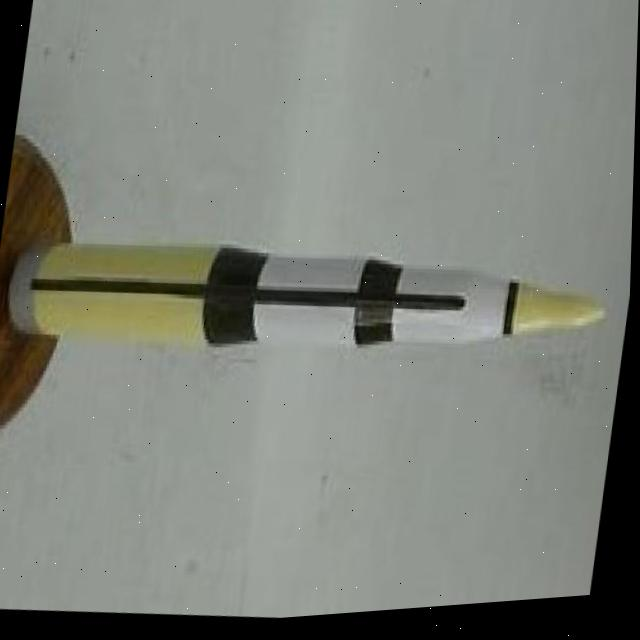missile: (0, 201, 615, 400)
